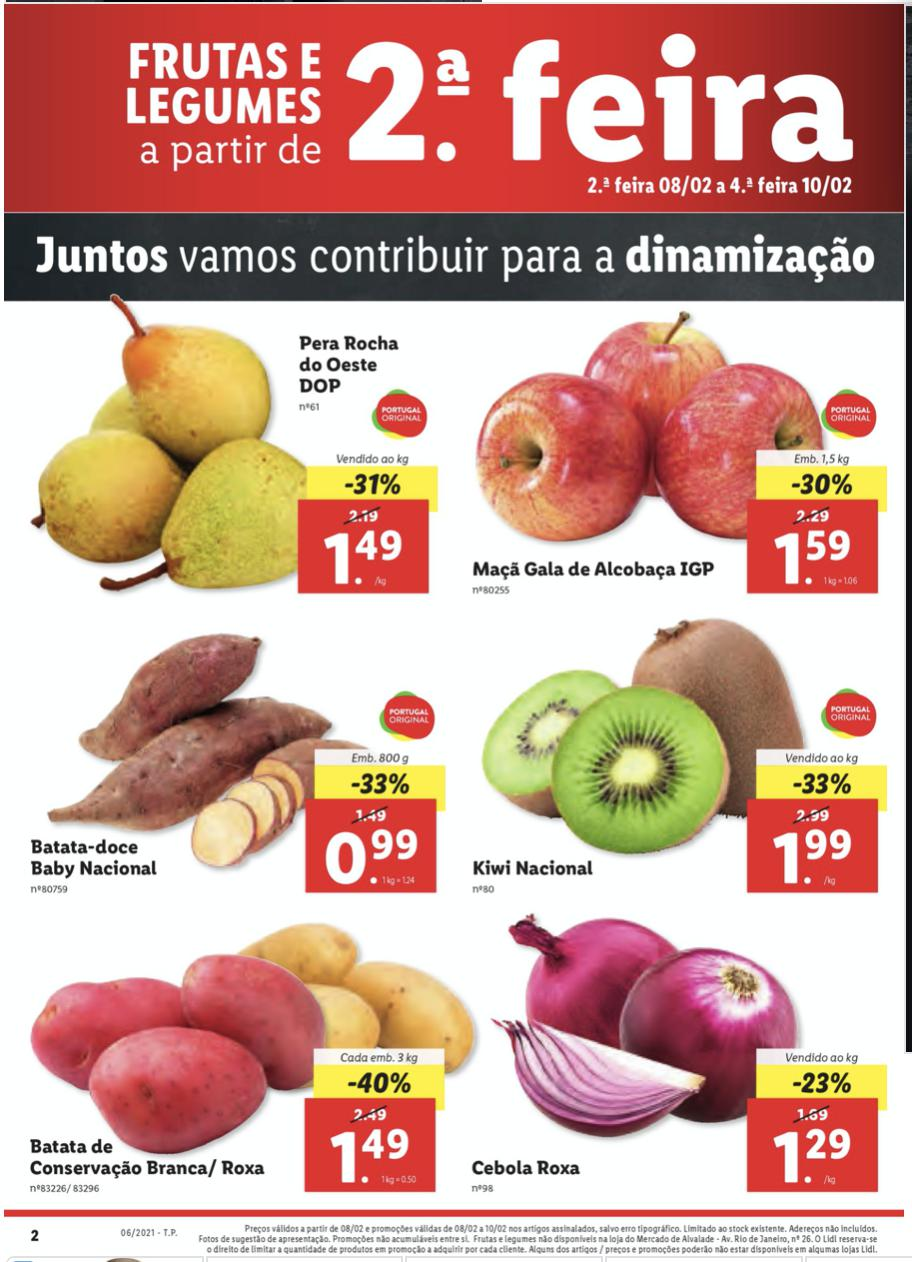name: (26, 1133, 270, 1178), (468, 557, 720, 583), (299, 338, 401, 399), (27, 836, 163, 880), (473, 855, 607, 885), (474, 1153, 591, 1185)
price: (768, 522, 865, 594), (321, 824, 416, 888), (326, 1122, 418, 1188), (768, 827, 860, 889), (320, 528, 413, 589), (770, 1127, 857, 1186)
product: (435, 292, 890, 605), (6, 591, 463, 900), (13, 297, 449, 602), (462, 605, 890, 914), (15, 916, 468, 1202), (462, 914, 896, 1202)
promotion: (343, 767, 415, 802), (340, 1069, 416, 1102), (785, 469, 859, 500), (341, 469, 406, 502), (787, 1067, 856, 1094), (790, 771, 854, 799)
